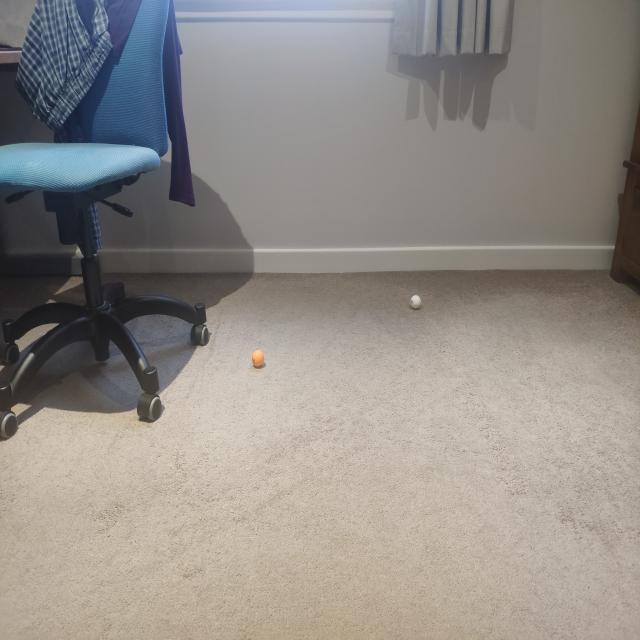oball: (250, 350, 264, 368)
